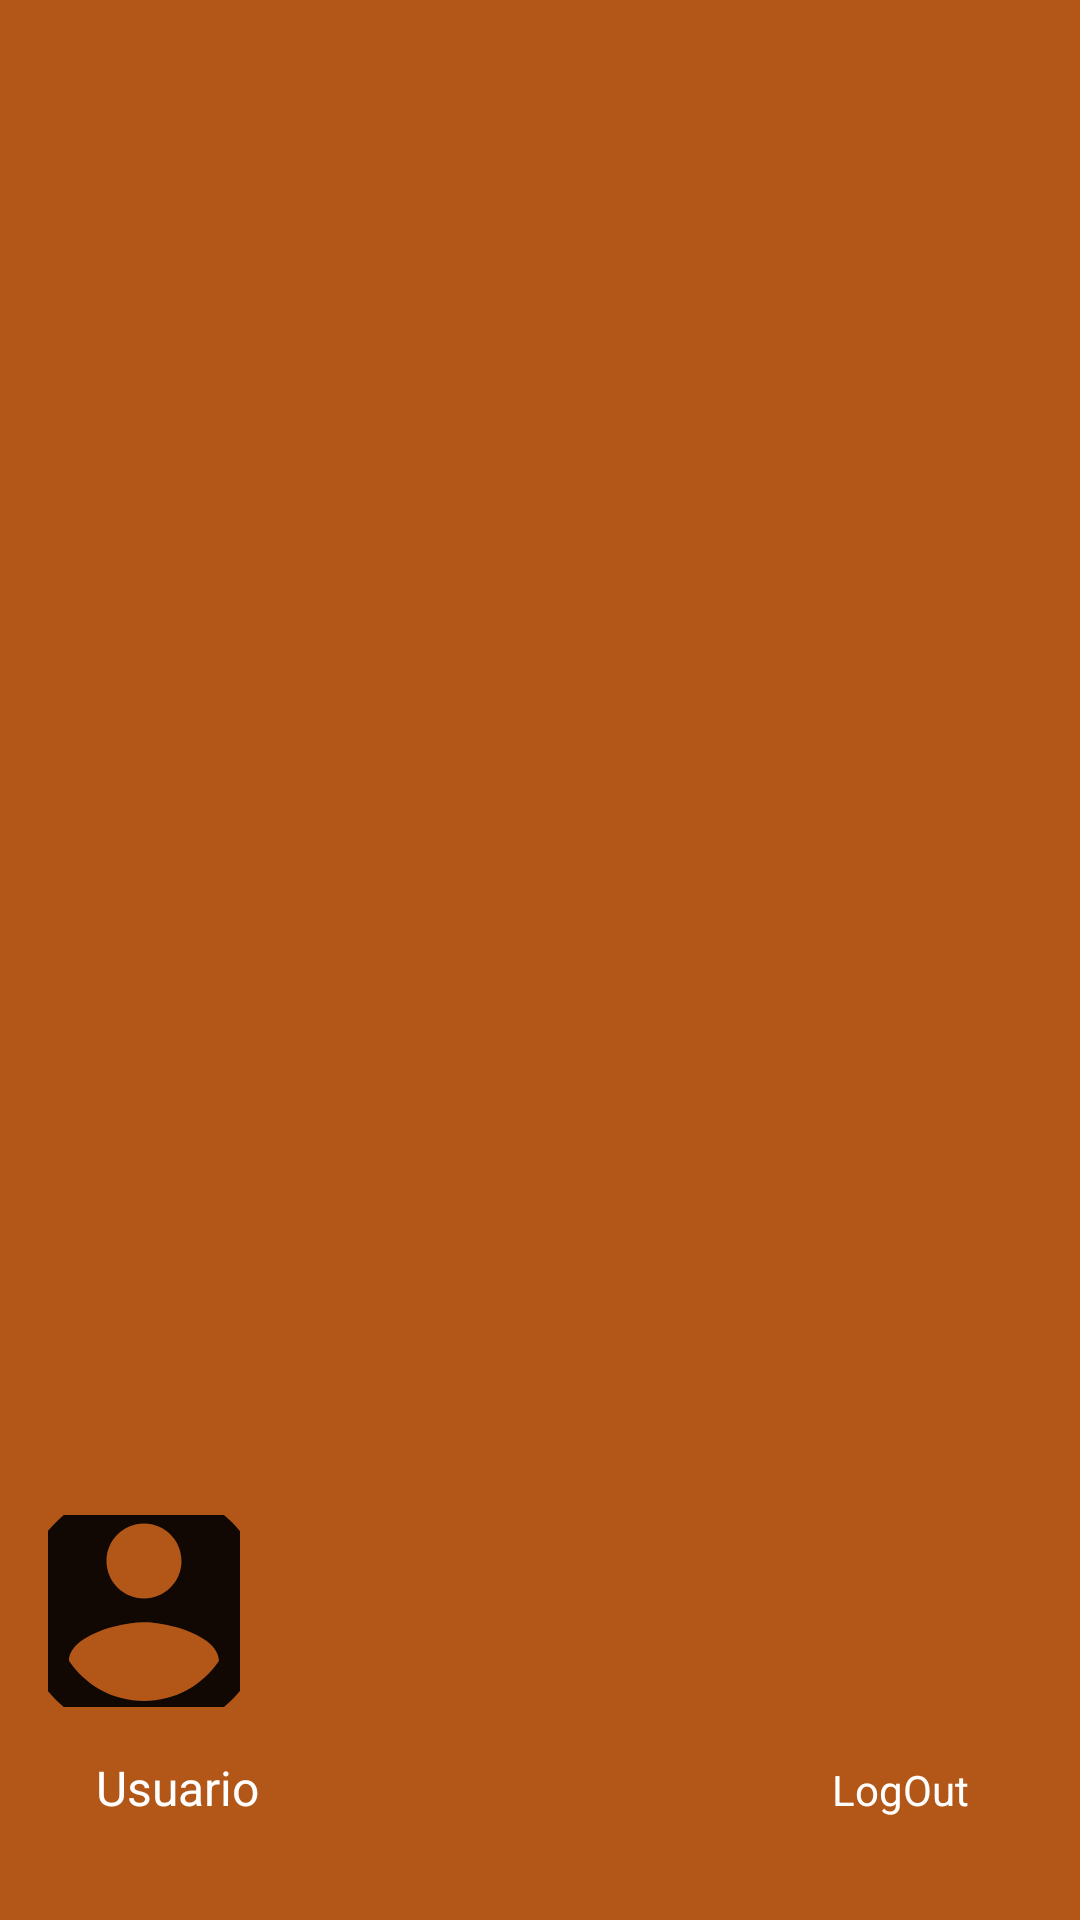

Icons on this 1080*1920 Android screen, each with the point to tap as [x,y]:
acount circle: [144,1611]
